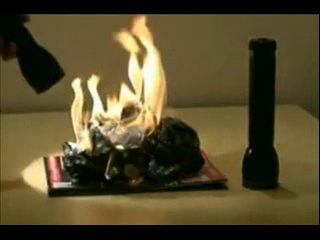fire: (118, 14, 170, 151), (66, 73, 118, 154)
